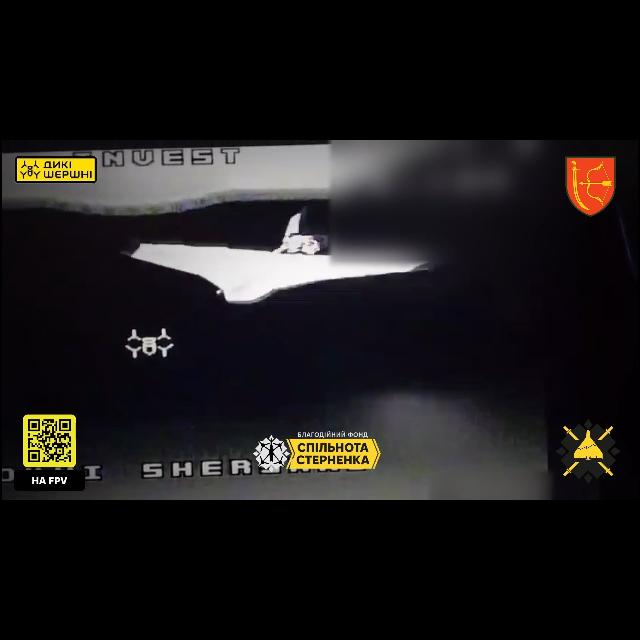Gerbera: (125, 207, 428, 305)
